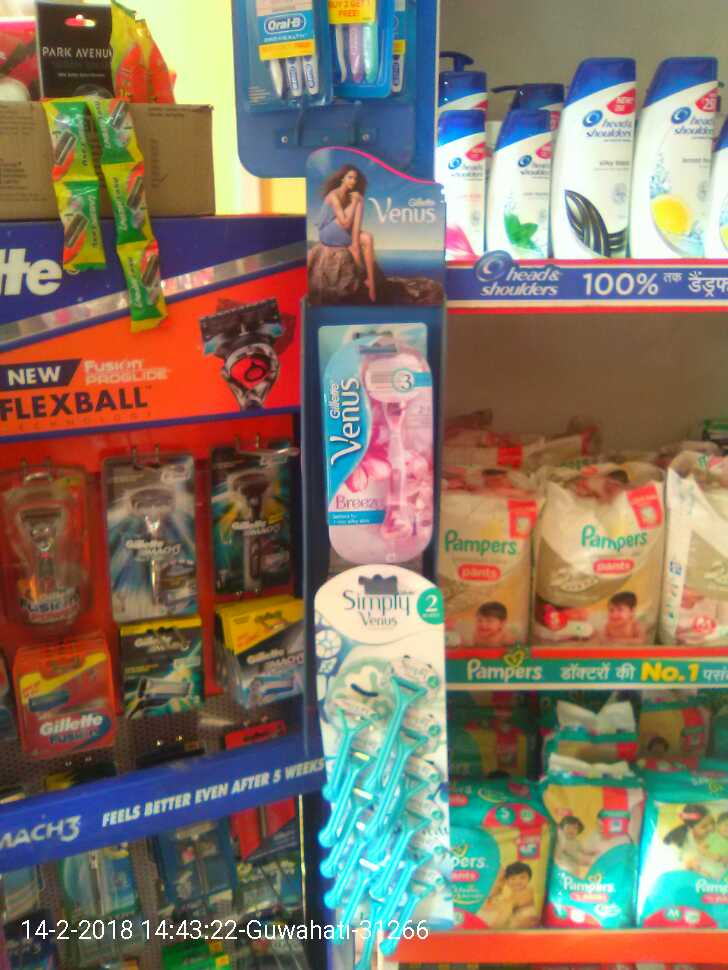beauty: (316, 336, 448, 555), (635, 59, 720, 260), (554, 59, 633, 264), (107, 470, 204, 611), (8, 469, 90, 622), (216, 460, 302, 599), (22, 661, 117, 765), (493, 107, 552, 267), (440, 102, 490, 267), (121, 625, 202, 718), (231, 608, 303, 699)
pharmacy: (534, 488, 650, 651), (440, 489, 536, 645), (553, 781, 641, 931), (646, 786, 728, 920), (447, 814, 550, 920)
